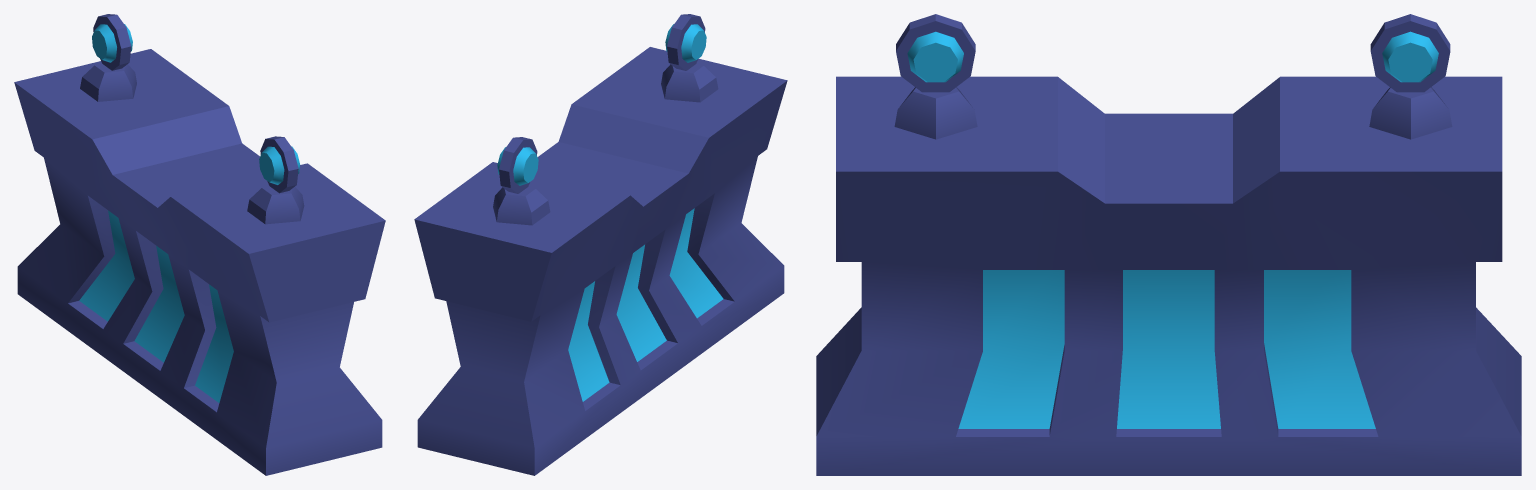
File: SM_Trafficblock_01.fbx
3 renders of one model, left to right at view 1: azimuth 30°, elevation 25°; view 2: azimuth 150°, elevation 25°; view 3: azimuth 270°, elevation 25°, orthographic. The views are drawn at different scales.
Visible parts, largest first — view 1: SM_Trafficblock_01; view 2: SM_Trafficblock_01; view 3: SM_Trafficblock_01.
Boxes of the visible parts, x1=… form: SM_Trafficblock_01: x1=14, y1=14, x2=385, y2=475; SM_Trafficblock_01: x1=414, y1=14, x2=787, y2=475; SM_Trafficblock_01: x1=816, y1=14, x2=1521, y2=475.
Size of the model in its own units: 200 by 408 by 627.
